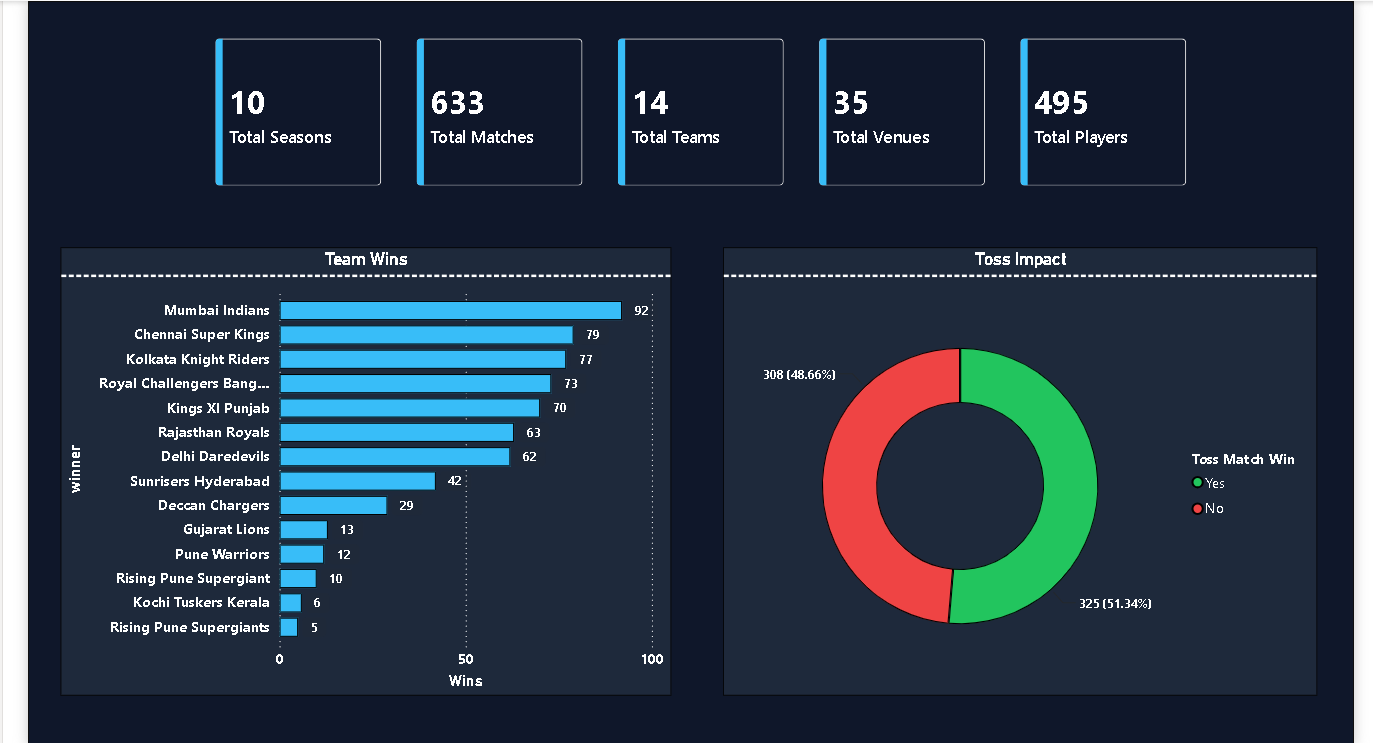

Layout of this report page (visuals, bound fields, positions):
{"tool":"powerbi","page":{"name":"Executive Summary","canvas":[1280,720],"ordinal":0},"visuals":[{"type":"cardVisual","fields":{"Data":["match2.Total Seasons"]},"box":[164.1,19.3,194.2,176.1],"z":0},{"type":"cardVisual","fields":{"Data":["match2.Total Matches"]},"box":[358.3,19.6,194.4,176.1],"z":1000},{"type":"cardVisual","fields":{"Data":["Teams.Total Teams"]},"box":[552.7,19.6,194.4,176.1],"z":2000},{"type":"cardVisual","fields":{"Data":["match2.Total Venues"]},"box":[747.2,19.6,194.4,176.1],"z":3000},{"type":"cardVisual","fields":{"Data":["Players.Total Players"]},"box":[941.6,19.6,194.4,176.1],"z":4000},{"type":"clusteredBarChart","title":"Team Wins","fields":{"Category":["match2.winner"],"Y":["match2.Wins"]},"box":[31.8,237.2,589.4,432.9],"z":5000},{"type":"donutChart","title":"Toss Impact","fields":{"Category":["match2.Toss Match Win"],"Y":["CountNonNull(match2.id)"]},"box":[671.3,237.2,573.5,432.9],"z":6000}]}

Visuals, with their boxes on the page's 1280x720 design canvas (x1, y1, x2, y2). These are canvas units, not pixel positions in the 1373x743 screenshot, which may show the page scaled, cropped or inside an application window:
cardVisual - match2.Total Seasons: crop(164, 19, 358, 195)
cardVisual - match2.Total Matches: crop(358, 20, 553, 196)
cardVisual - Teams.Total Teams: crop(553, 20, 747, 196)
cardVisual - match2.Total Venues: crop(747, 20, 942, 196)
cardVisual - Players.Total Players: crop(942, 20, 1136, 196)
"Team Wins" clusteredBarChart: crop(32, 237, 621, 670)
"Toss Impact" donutChart: crop(671, 237, 1245, 670)
